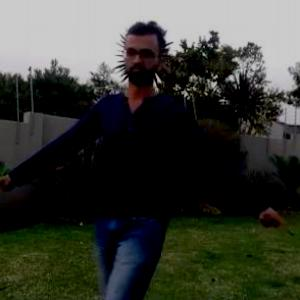land: (19, 45, 255, 284)
